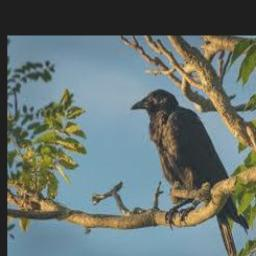Crow: (131, 89, 249, 256)
